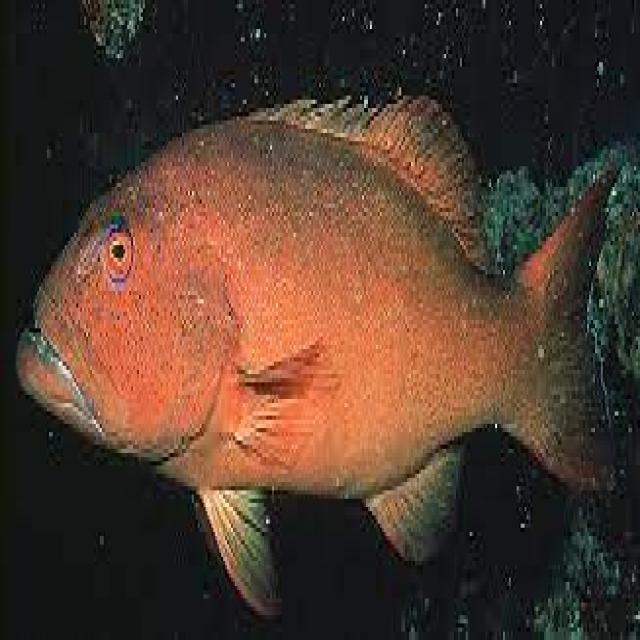Plectropomus-leopardus: (13, 90, 622, 602)
